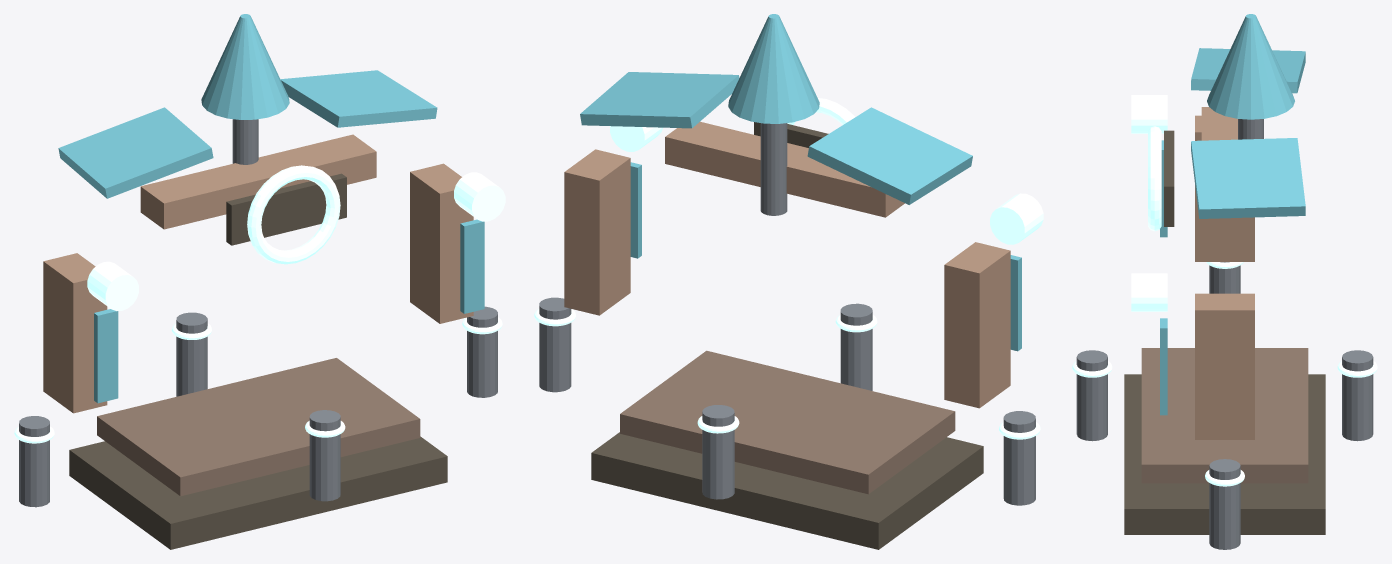
Rendered from asset.glb.
3 views of the same model, side by side, from view 1: azimuth 30°, elevation 25°; view 2: azimuth 150°, elevation 25°; view 3: azimuth 270°, elevation 25° (orthographic). The views are drawn at different scales.
Visible parts, largest first — view 1: RaisedDeck, Foundation, CrossBeam, CanopyWing_-1, Pylon_-1, Pylon_1, CanopyWing_1, TopMarker, SignPanel, IdentityRing, Bollard_3, Bollard_2 (+7 smaller); view 2: RaisedDeck, Foundation, Pylon_1, Pylon_-1, CanopyWing_-1, CrossBeam, CanopyWing_1, TopMarker, Bollard_2, Bollard_1, Bollard_0, CenterMast (+6 smaller); view 3: RaisedDeck, Foundation, Pylon_1, CanopyWing_1, TopMarker, Bollard_1, Bollard_3, Bollard_0, CanopyWing_-1, Pylon_-1, CrossBeam, Lamp_1 (+6 smaller).
Boxes of the visible parts, x1,y1,x2,y2 form: RaisedDeck: (97,358,420,496); Foundation: (69,436,447,549); CrossBeam: (140,134,376,229); CanopyWing_-1: (58,107,213,198); Pylon_-1: (43,253,107,413); Pylon_1: (410,163,473,323); CanopyWing_1: (280,70,437,127); TopMarker: (201,14,289,119); SignPanel: (226,173,346,245); IdentityRing: (247,165,340,264); Bollard_3: (309,410,340,501); Bollard_2: (19,416,49,507); RaisedDeck: (620,350,955,494); Foundation: (591,432,983,549); Pylon_1: (564,149,630,315); Pylon_-1: (944,242,1010,408); CanopyWing_-1: (807,107,972,204); CrossBeam: (665,121,904,217); CanopyWing_1: (580,72,739,128); TopMarker: (728,14,819,123); Bollard_2: (1003,411,1035,505); Bollard_1: (702,405,734,499); Bollard_0: (539,297,571,392); CenterMast: (760,123,787,215); RaisedDeck: (1141,348,1308,483); Foundation: (1124,374,1325,534); Pylon_1: (1195,293,1254,439); CanopyWing_1: (1191,138,1305,218); TopMarker: (1207,14,1294,119); Bollard_1: (1342,350,1373,441); Bollard_3: (1076,350,1107,441); Bollard_0: (1209,459,1240,549); CanopyWing_-1: (1191,48,1305,93); Pylon_-1: (1195,115,1254,261); CrossBeam: (1201,107,1248,236); Lamp_1: (1131,273,1167,311).
Size of the model in its own units: 4.27 by 3.83 by 2.35.
